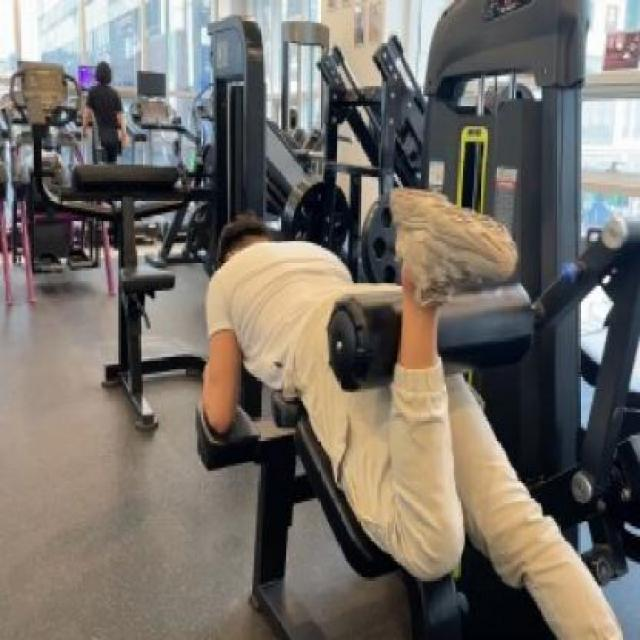reg curl machine: (186, 0, 631, 640)
